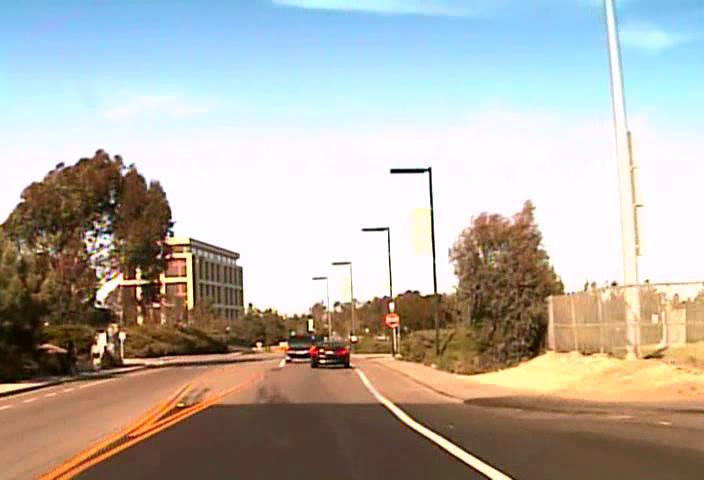stop: (385, 312, 398, 327)
